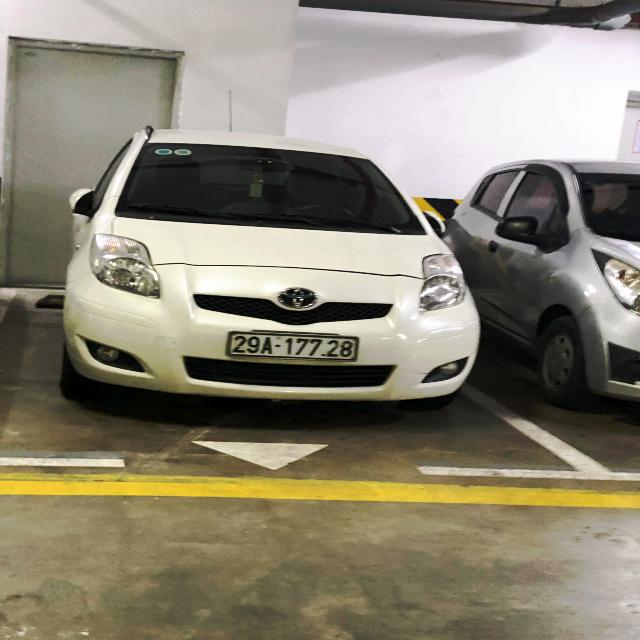license_plate: (223, 328, 365, 365)
